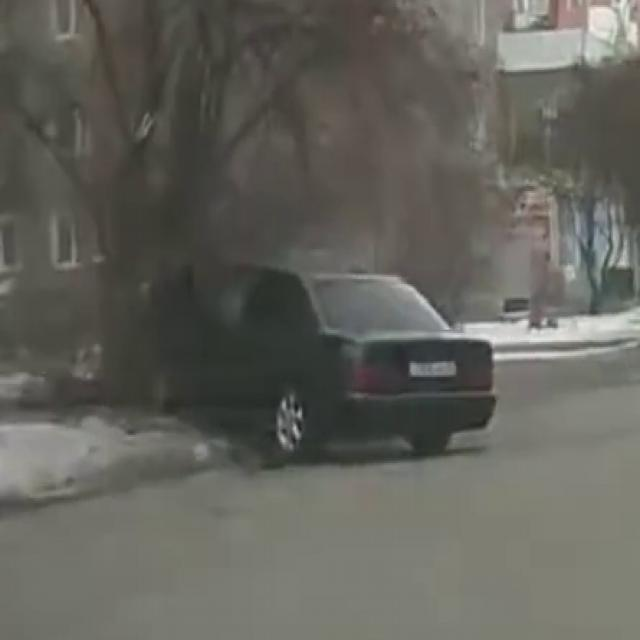accident: (105, 224, 432, 482)
